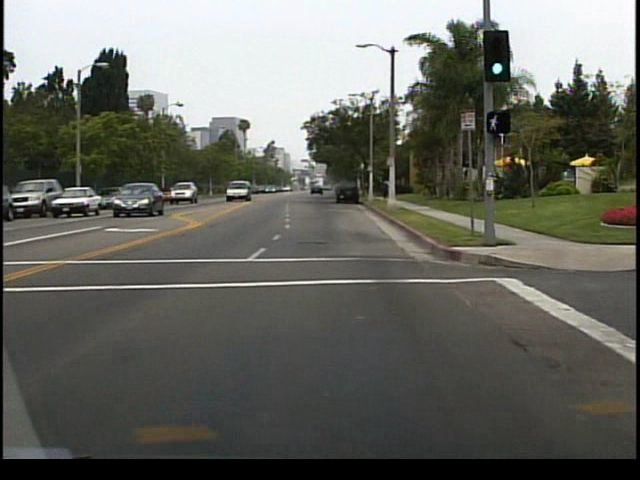person: (384, 172, 397, 200), (385, 178, 386, 201)
